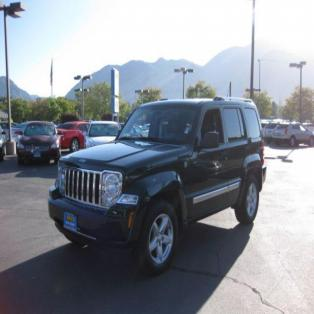Auto: (46, 94, 268, 281)
